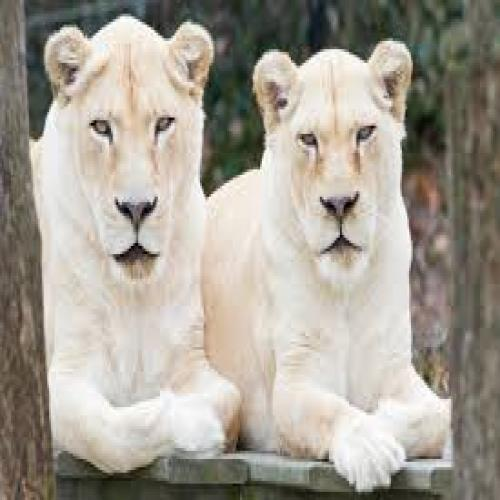lion-endangered: (201, 38, 451, 491), (28, 11, 243, 476)
